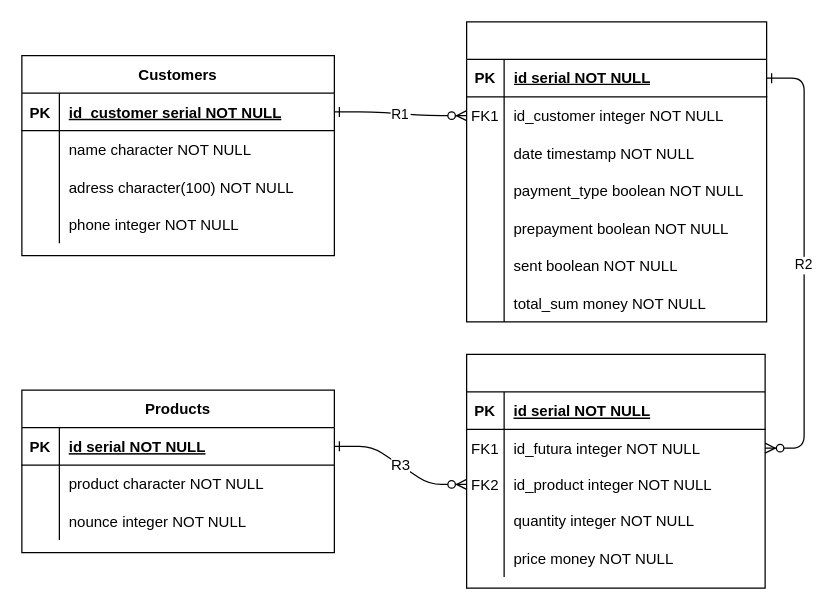
Image size: 838x610. Some labels were removed from this diagram. Here are the shapes that lost their labels. From the top down, the box of each, then its label:
(465, 21, 767, 322): Futura
(465, 353, 765, 588): Futura Info
